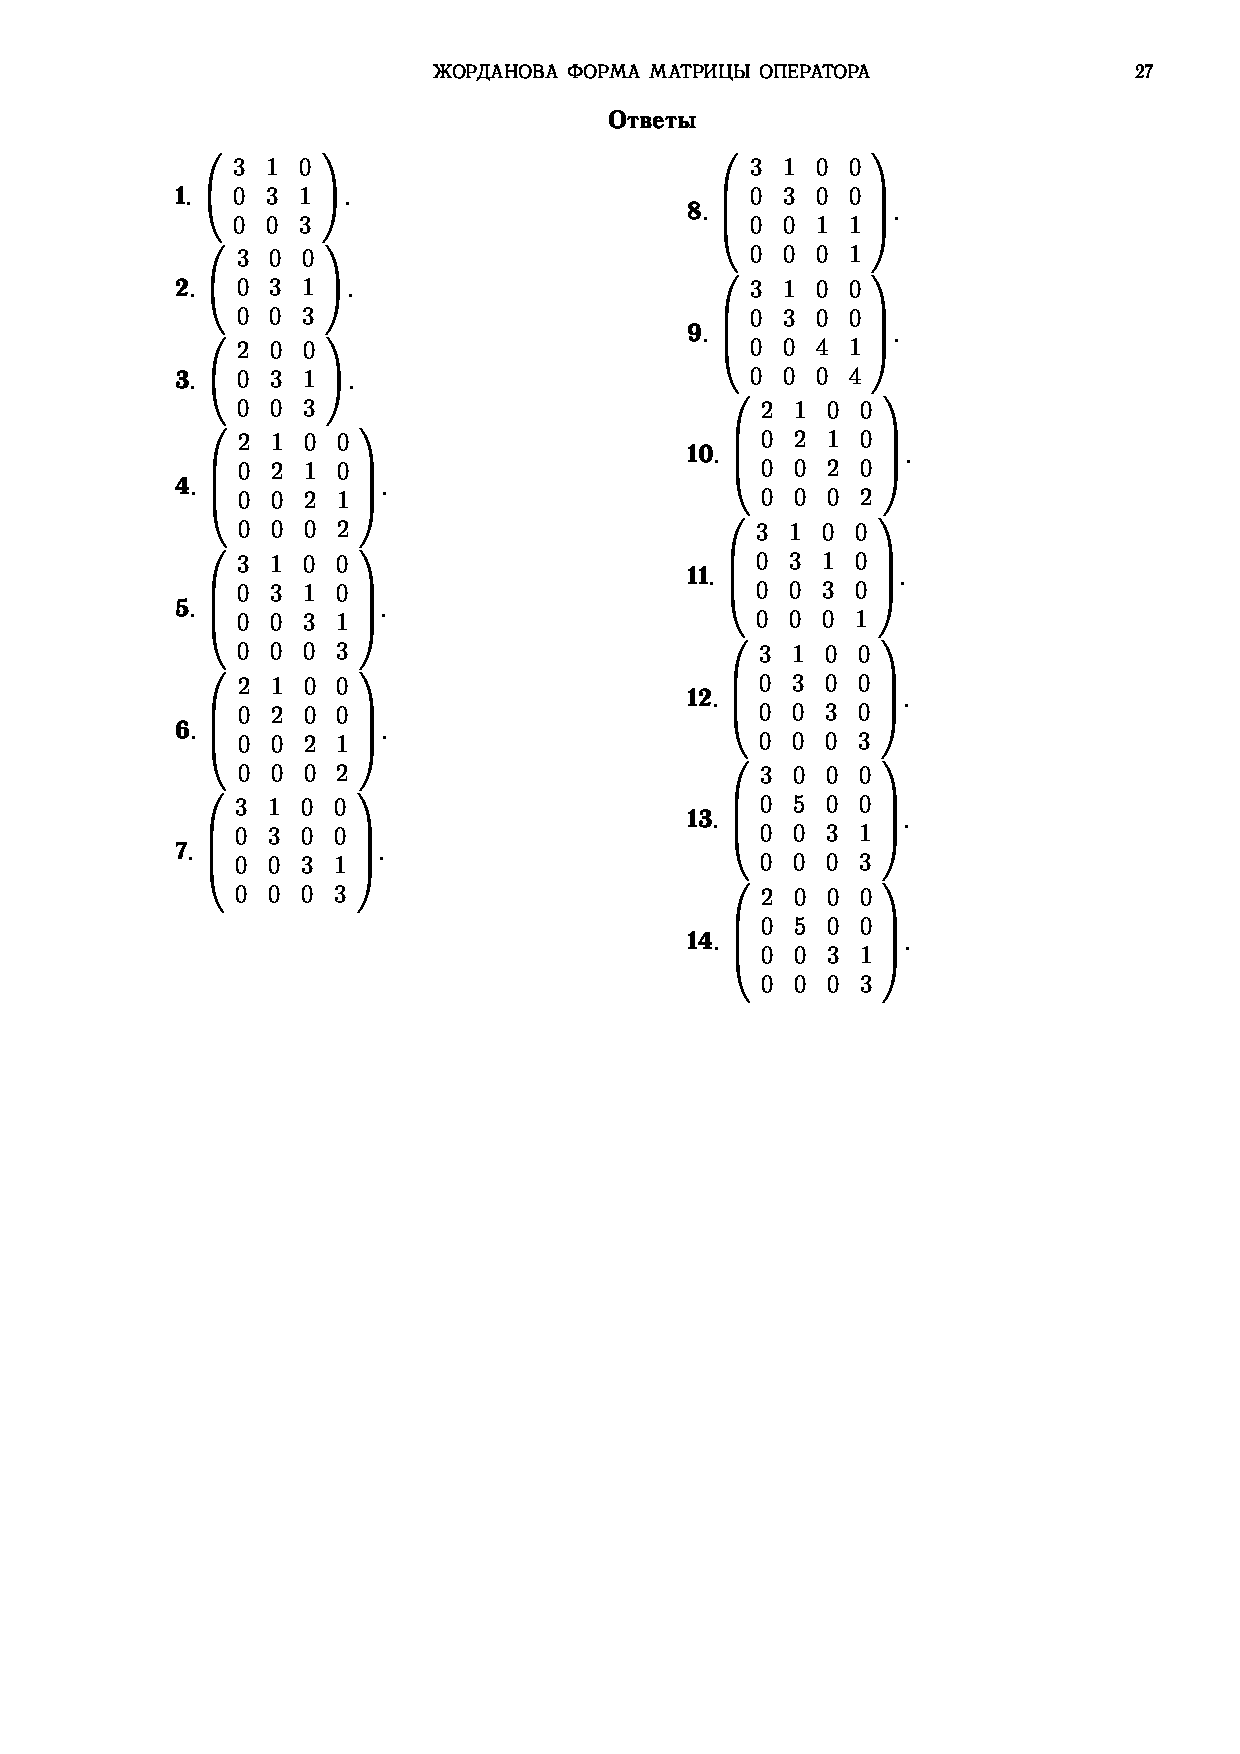pMatrix: (723, 395, 899, 515), (723, 152, 888, 276), (211, 548, 377, 671), (209, 425, 374, 548), (209, 671, 374, 793), (723, 275, 886, 399), (733, 637, 896, 760), (209, 793, 370, 917), (735, 880, 895, 1004), (733, 760, 895, 880), (727, 518, 891, 636), (207, 336, 344, 427), (208, 246, 342, 338), (208, 152, 340, 246)
